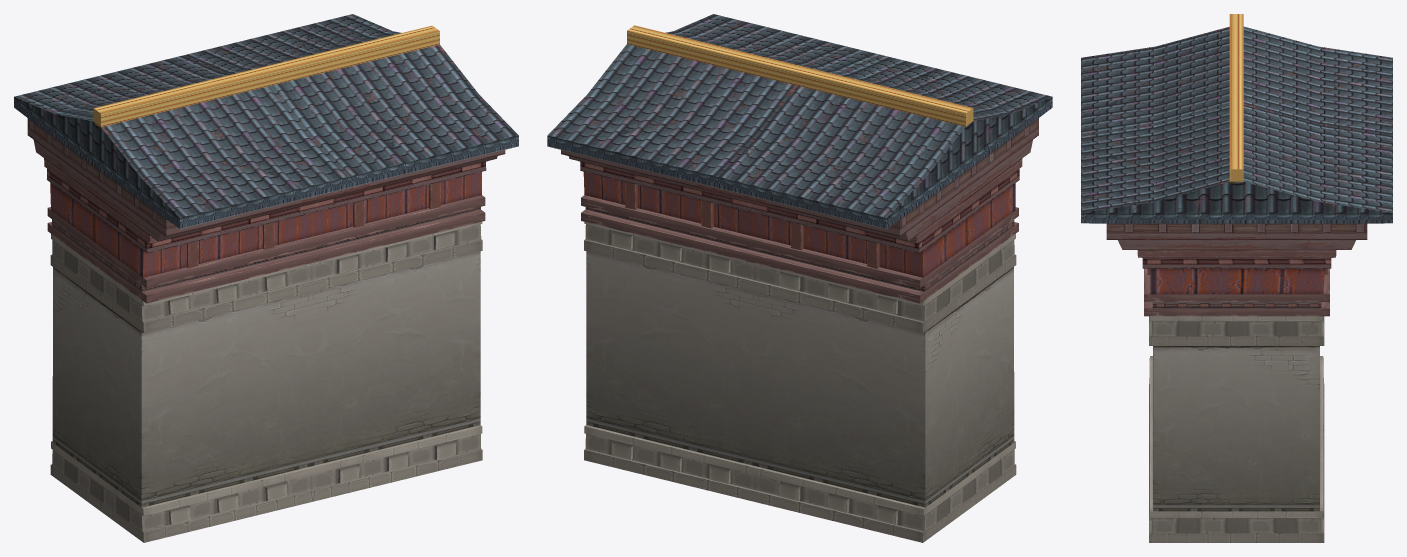
Rendered from mod_zlc_jianzhu040_xy01.FBX.
The picture shows the model from 3 angles, left to right: view 1: azimuth 30°, elevation 25°; view 2: azimuth 150°, elevation 25°; view 3: azimuth 270°, elevation 25°; orthographic projection. The views are drawn at different scales.
Parts seen in each view (by area): view 1: mod_zlc_jianzhu040_xy01; view 2: mod_zlc_jianzhu040_xy01; view 3: mod_zlc_jianzhu040_xy01.
Part boxes in pixels (x1,y1,x2,y2): mod_zlc_jianzhu040_xy01: (14, 14, 518, 542); mod_zlc_jianzhu040_xy01: (547, 14, 1052, 542); mod_zlc_jianzhu040_xy01: (1081, 14, 1392, 542).
Bounding box in the file's own units: 356 × 400 × 302.
Materials: 4 (4 with a texture image).
